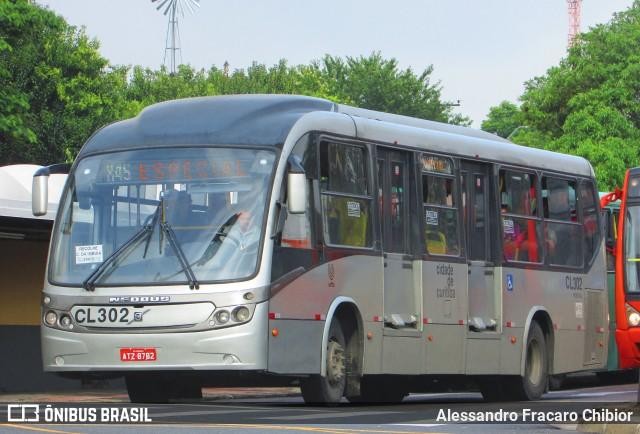ESPECIAL: (134, 155, 251, 184)
